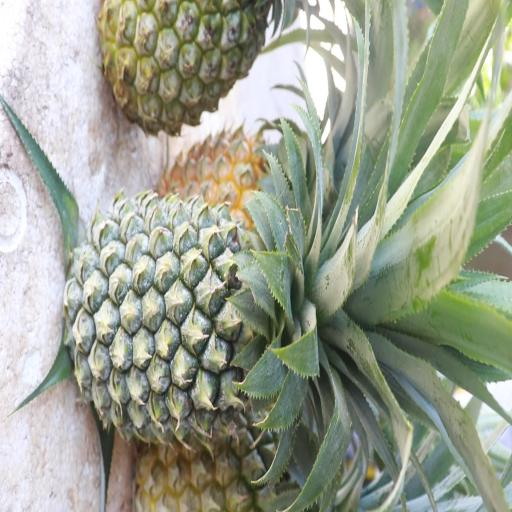------------------------------: (98, 0, 279, 137)
